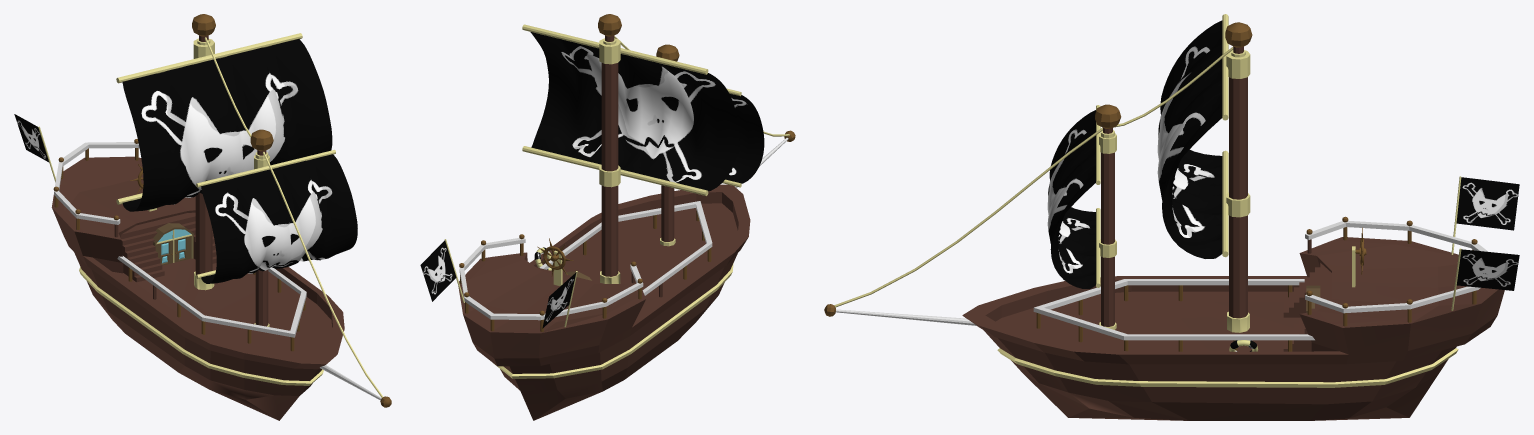
File: barco gabo.fbx
3 renders of one model, left to right at view 1: azimuth 30°, elevation 25°; view 2: azimuth 150°, elevation 25°; view 3: azimuth 270°, elevation 25°, orthographic. The views are drawn at different scales.
Parts seen in each view (by area): view 1: barco, Plane001, Plane002, Cube, luces barco, Cube.002, Plane, Cube.001; view 2: barco, Plane001, Plane002, Plane, luces barco, control barco; view 3: barco, Plane001, Plane002, Plane, Cube, luces barco.
Part boxes in pixels (x1=…): barco: x1=51, y1=33, x2=383, y2=420; Plane001: x1=122, y1=39, x2=332, y2=211; Plane002: x1=201, y1=154, x2=357, y2=283; Cube: x1=120, y1=212, x2=216, y2=282; luces barco: x1=53, y1=14, x2=391, y2=407; Cube.002: x1=156, y1=236, x2=191, y2=265; Plane: x1=14, y1=114, x2=48, y2=162; Cube.001: x1=153, y1=223, x2=193, y2=258; barco: x1=458, y1=24, x2=789, y2=420; Plane001: x1=530, y1=32, x2=739, y2=191; Plane002: x1=725, y1=93, x2=764, y2=183; Plane: x1=420, y1=240, x2=576, y2=328; luces barco: x1=459, y1=14, x2=795, y2=315; control barco: x1=537, y1=238, x2=573, y2=276; barco: x1=834, y1=14, x2=1504, y2=420; Plane001: x1=1157, y1=20, x2=1222, y2=258; Plane002: x1=1047, y1=110, x2=1095, y2=288; Plane: x1=1456, y1=177, x2=1519, y2=290; Cube: x1=1283, y1=263, x2=1331, y2=351; luces barco: x1=824, y1=22, x2=1477, y2=316.
Size of the model in its own units: 433 by 758 by 1211.
9 materials, 2 textured.
